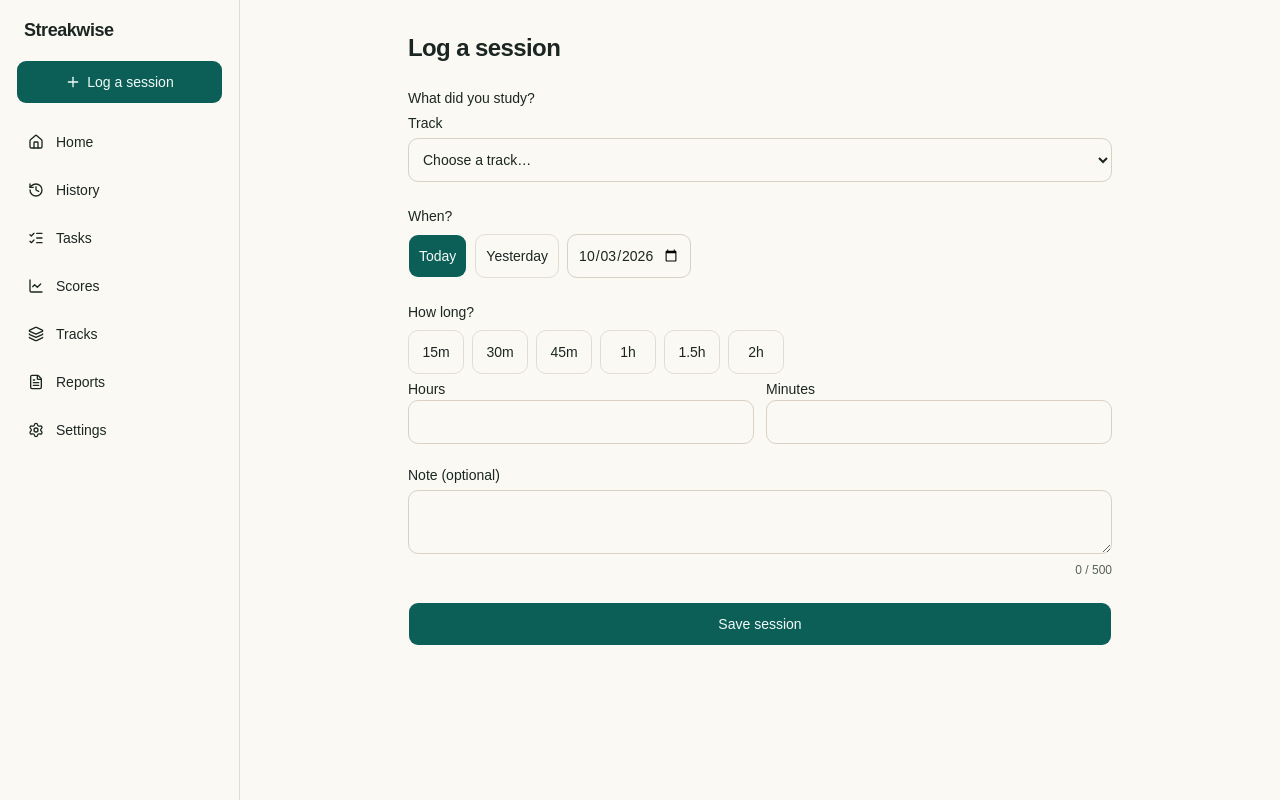
Log form (LOG-2–5) › rejects a duration over 24 hours and a future date (LOG-3, LOG-4)
Type "25" into the number field labelled "Hours".
click(581, 422); type("25")  # box 408,400 -> 754,444
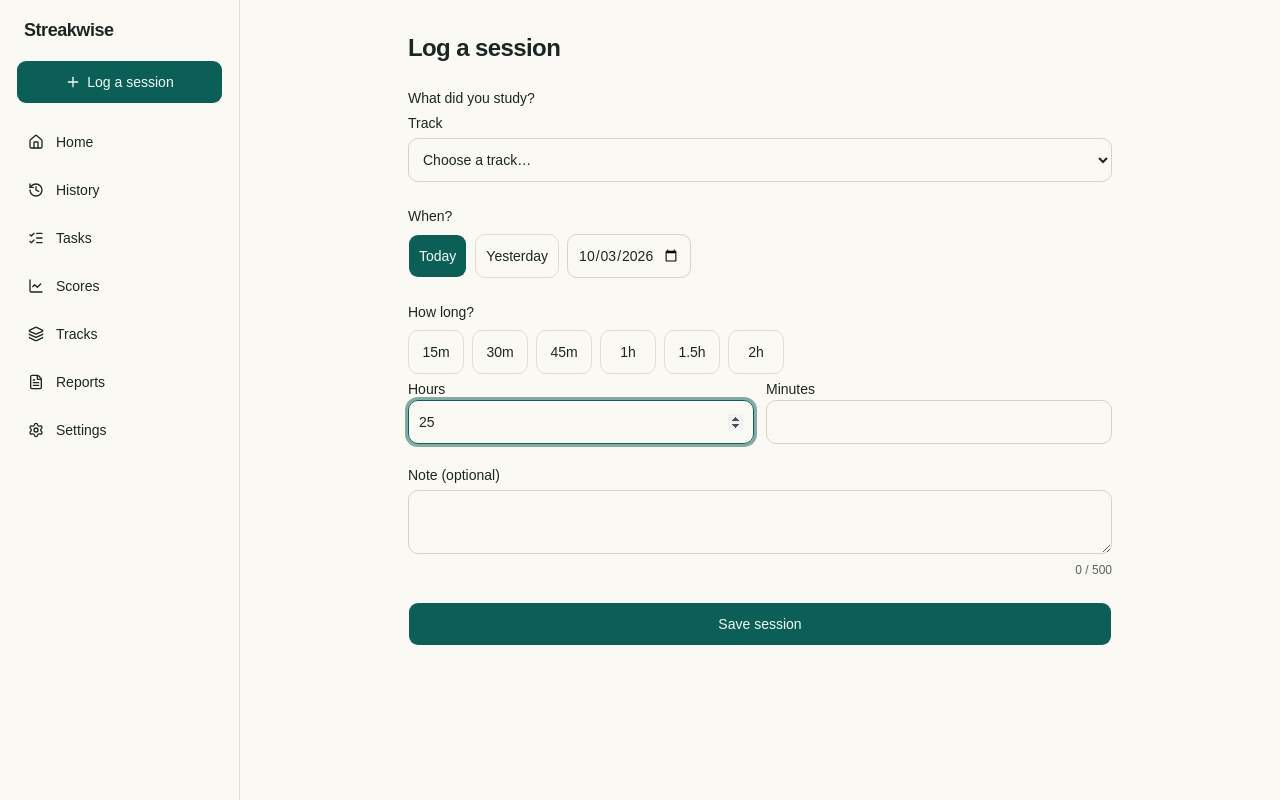
Type "2026-10-04" into the date field named "Date".
click(629, 256); type("2026-10-04")  # box 567,234 -> 691,278
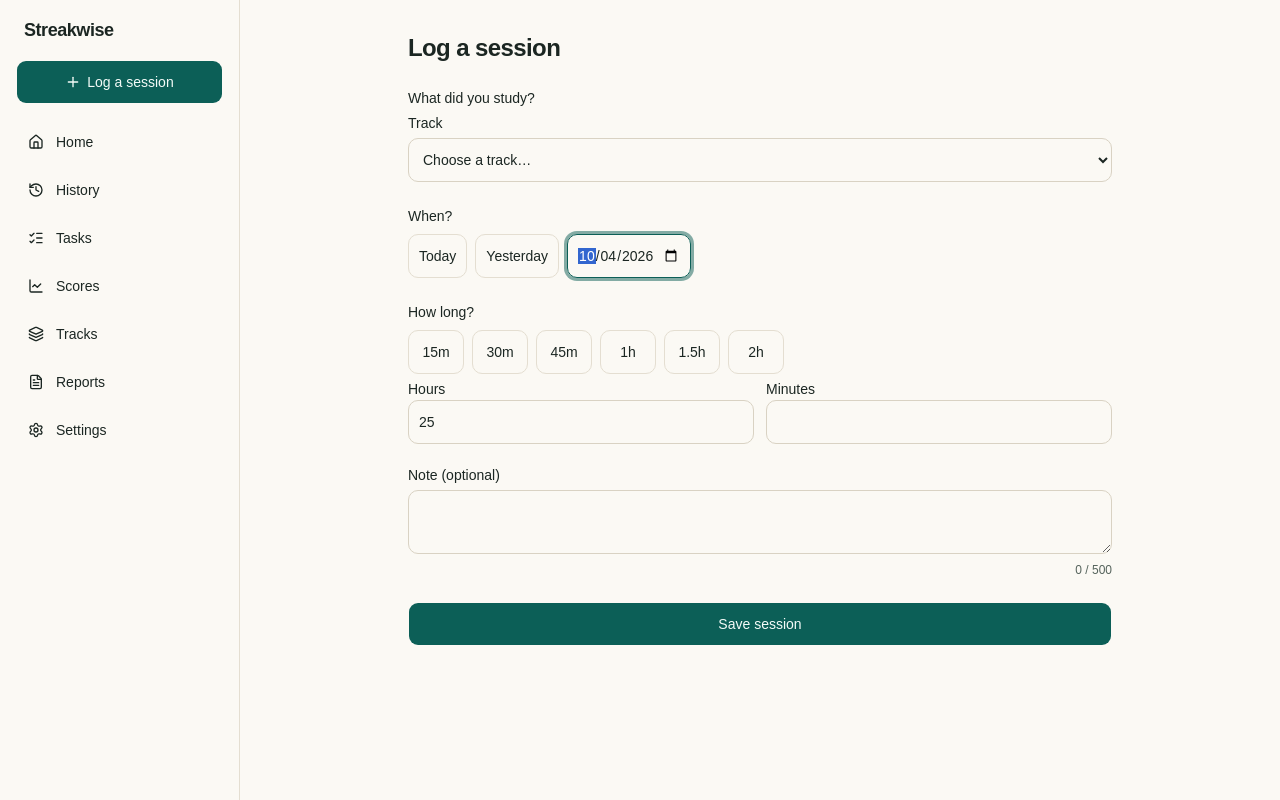
Click the button "Save session".
click(760, 624)  # box 408,602 -> 1112,646
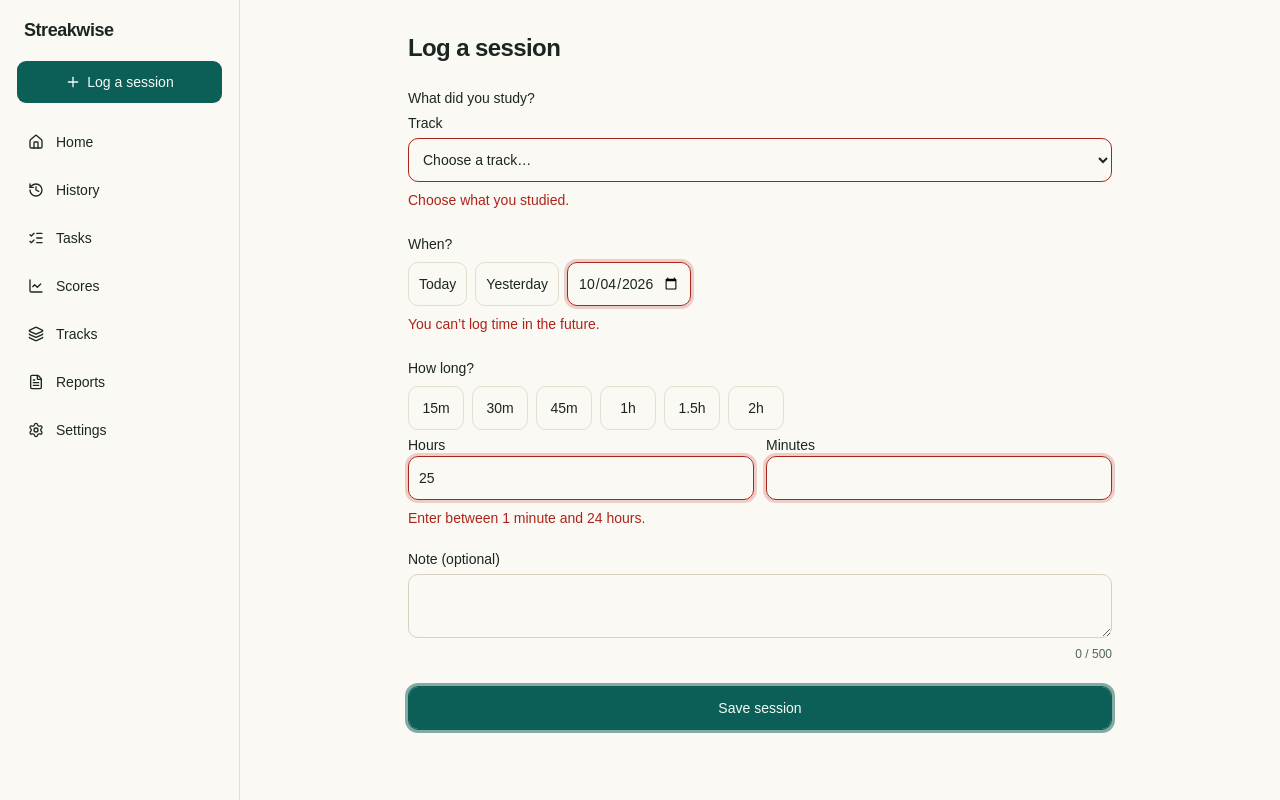
Expected: the text "Enter between 1 minute and 24 hours." is shown, 408,510 -> 645,526
Expected: the text "You can’t log time in the future." is shown, 408,316 -> 600,332
